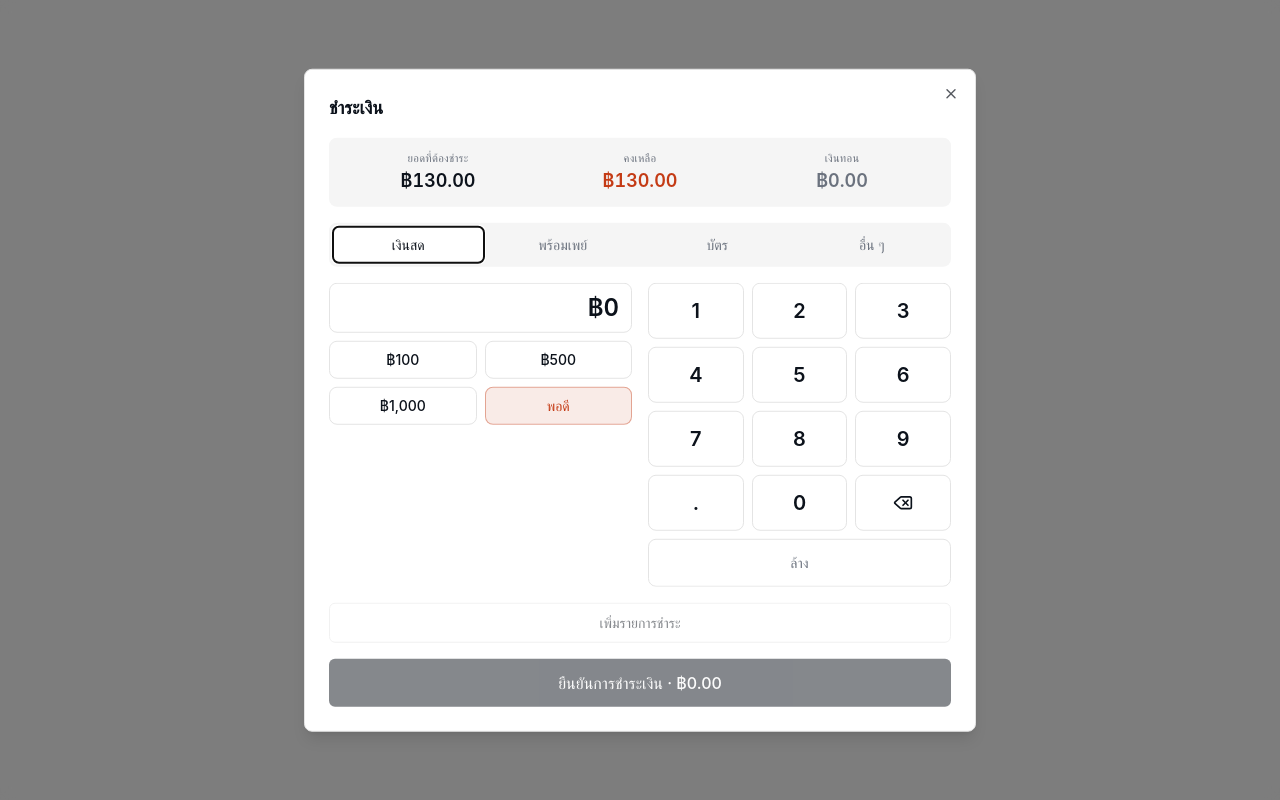
Test: PaymentDialog › requires a reference before a card tender can be added
Click the button "บัตร" at point(717, 244), box [642,226,792,262]
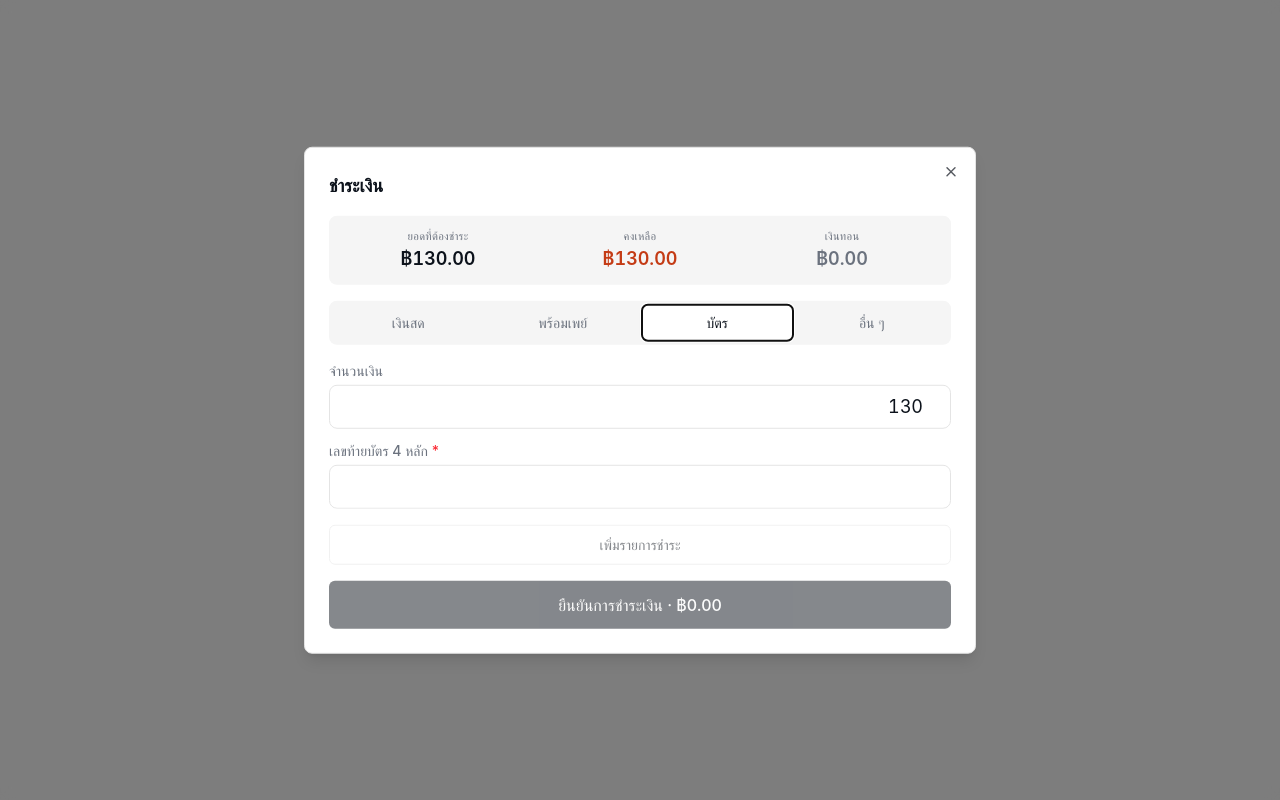
Expected: the button "เพิ่มรายการชำระ" is disabled, [329,524,951,564]
Type "4242" into the field at point(640, 486), box [329,464,951,508]
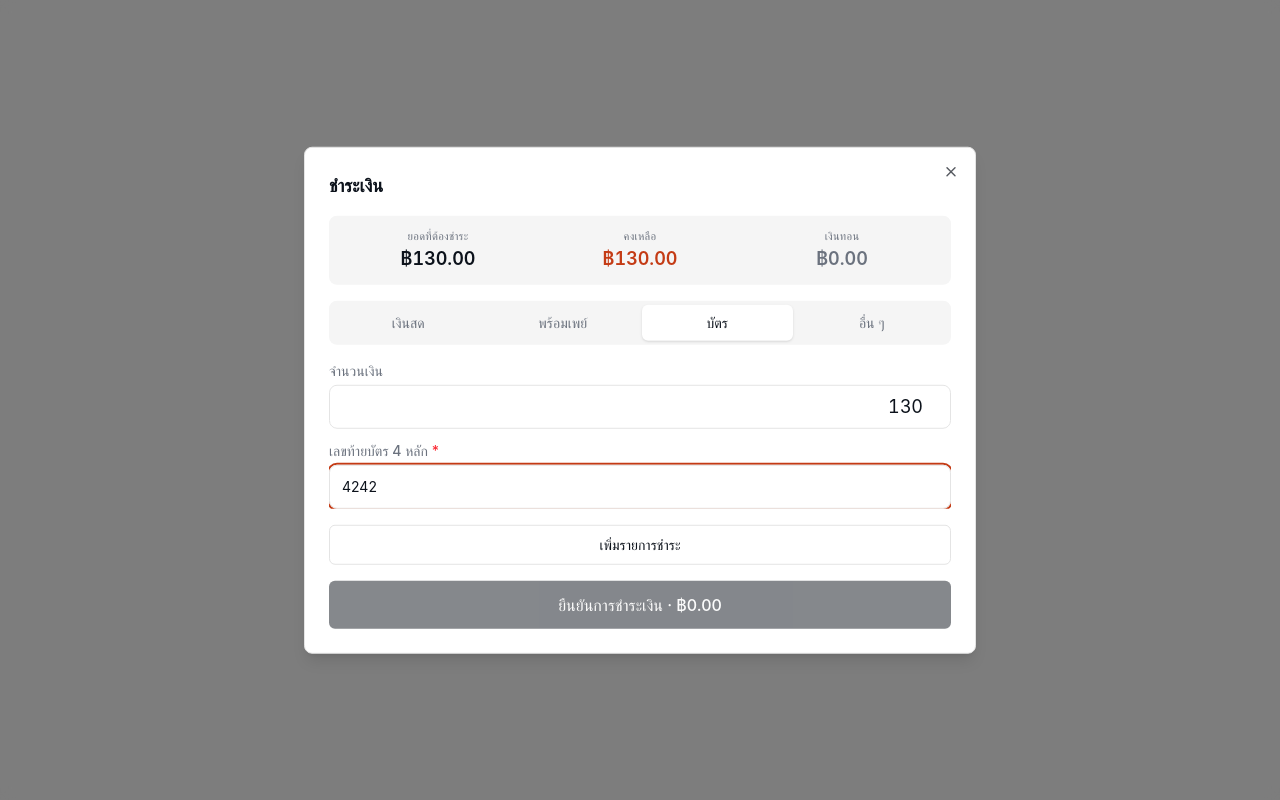
Expected: the button "เพิ่มรายการชำระ" is enabled, [329,524,951,564]
